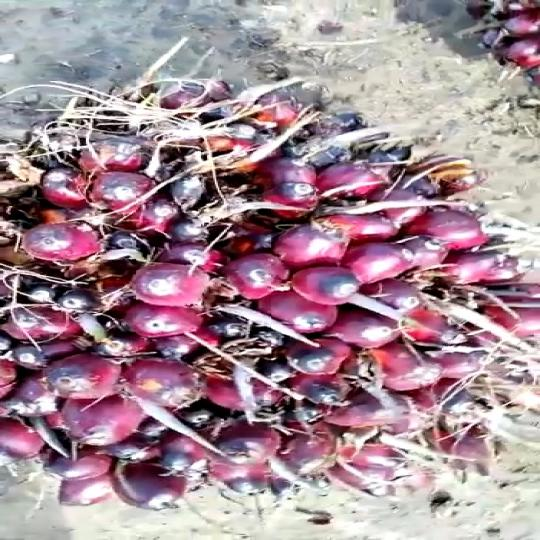masak: (0, 65, 540, 516)
